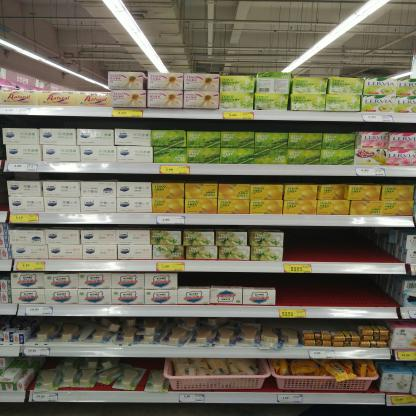Void: (274, 276, 400, 309), (287, 228, 403, 262), (6, 68, 104, 90), (181, 273, 269, 288)
